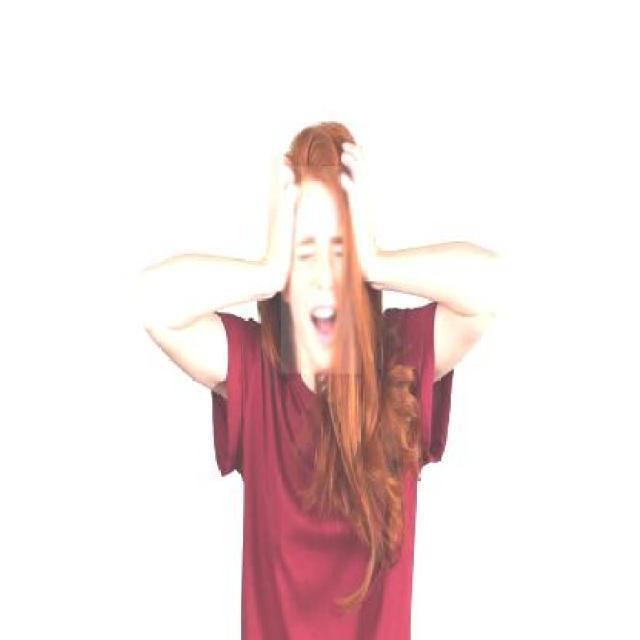sleepy: (297, 233, 352, 369)
